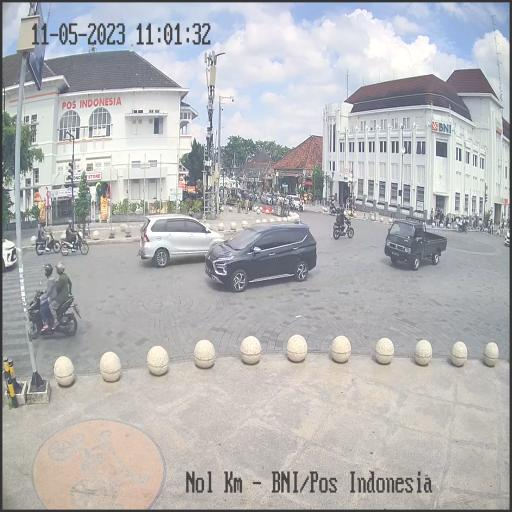mobil: (208, 221, 317, 292), (138, 211, 225, 268), (384, 215, 448, 271)
motor: (24, 287, 78, 338), (32, 230, 61, 260), (60, 232, 90, 260), (332, 219, 354, 241)
